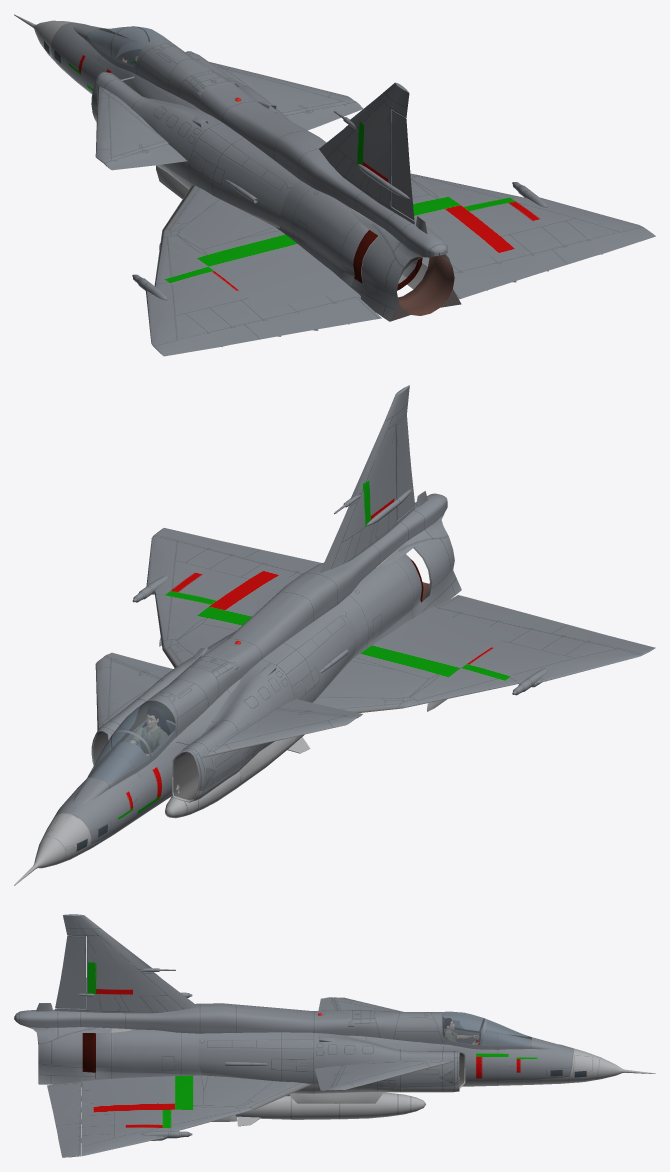
3 renders of one model, top to bottom at view 1: azimuth 30°, elevation 25°; view 2: azimuth 150°, elevation 25°; view 3: azimuth 270°, elevation 25°, orthographic. The views are drawn at different scales.
Visible parts, largest first — view 1: Line53-FACES, Line___01-FACES (×2), Line51-FACES, Circle__06-FACES (×2), Circle___-FACES, Line36-FACES, RUL_BOL02-FACES, RUL_BOL1-FACES, Cylinder01-FACES, Line55-FACES, Line54-FACES, Cylinder02-FACES (+4 smaller); view 2: Line53-FACES, Line___01-FACES (×2), Circle__06-FACES, Circle___-FACES (×2), Line51-FACES, Line36-FACES, Object01-FACES, RUL_BOL02-FACES, Line55-FACES, Cylinder01-FACES, Line54-FACES, RUL_BOL1-FACES (+3 smaller); view 3: Line___01-FACES (×2), Circle__06-FACES (×2), Line51-FACES, Circle___-FACES, Line36-FACES, Capsule04-FACES, Cylinder01-FACES, Object01-FACES, RUL_BOL1-FACES, RUL_NAPR-FACES, Line54-FACES, Box04-FACES (+2 smaller).
Part boxes in pixels (x1=…): Line53-FACES: x1=145, y1=185, x2=360, y2=344; Line___01-FACES (×2): x1=73, y1=24, x2=447, y2=257; Line51-FACES: x1=410, y1=173, x2=640, y2=273; Circle__06-FACES (×2): x1=34, y1=20, x2=422, y2=290; Circle___-FACES: x1=91, y1=51, x2=299, y2=228; Line36-FACES: x1=319, y1=82, x2=414, y2=224; RUL_BOL02-FACES: x1=152, y1=297, x2=381, y2=356; RUL_BOL1-FACES: x1=453, y1=226, x2=655, y2=299; Cylinder01-FACES: x1=350, y1=208, x2=448, y2=321; Line55-FACES: x1=96, y1=86, x2=168, y2=162; Line54-FACES: x1=209, y1=62, x2=354, y2=115; Cylinder02-FACES: x1=361, y1=235, x2=454, y2=315; Line53-FACES: x1=312, y1=606, x2=641, y2=710; Line___01-FACES (×2): x1=73, y1=491, x2=447, y2=804; Circle__06-FACES: x1=34, y1=554, x2=423, y2=868; Circle___-FACES (×2): x1=91, y1=604, x2=357, y2=802; Line51-FACES: x1=146, y1=536, x2=301, y2=665; Line36-FACES: x1=319, y1=385, x2=415, y2=573; Object01-FACES: x1=88, y1=701, x2=175, y2=782; RUL_BOL02-FACES: x1=436, y1=595, x2=655, y2=655; Line55-FACES: x1=205, y1=708, x2=354, y2=755; Cylinder01-FACES: x1=376, y1=514, x2=461, y2=611; Line54-FACES: x1=96, y1=657, x2=159, y2=727; RUL_BOL1-FACES: x1=153, y1=528, x2=321, y2=573; Line___01-FACES (×2): x1=14, y1=1003, x2=560, y2=1049; Circle__06-FACES (×2): x1=82, y1=1029, x2=622, y2=1096; Line51-FACES: x1=81, y1=1075, x2=310, y2=1155; Circle___-FACES: x1=198, y1=1021, x2=465, y2=1093; Line36-FACES: x1=54, y1=914, x2=198, y2=1013; Capsule04-FACES: x1=235, y1=1092, x2=425, y2=1126; Cylinder01-FACES: x1=27, y1=1027, x2=111, y2=1084; Object01-FACES: x1=442, y1=1011, x2=531, y2=1045; RUL_BOL1-FACES: x1=47, y1=1082, x2=81, y2=1157; RUL_NAPR-FACES: x1=55, y1=935, x2=85, y2=1008; Line54-FACES: x1=333, y1=1059, x2=449, y2=1090; Box04-FACES: x1=289, y1=1092, x2=383, y2=1103.
Bounding box in the file's own units: 10.67 × 5.7 × 16.07.
Materials: 36 (16 with a texture image).
